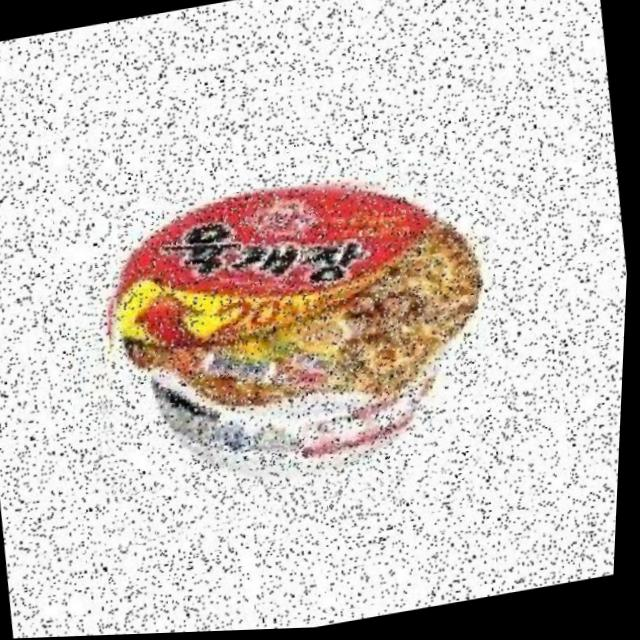Miscellaneous: (69, 152, 532, 552)
